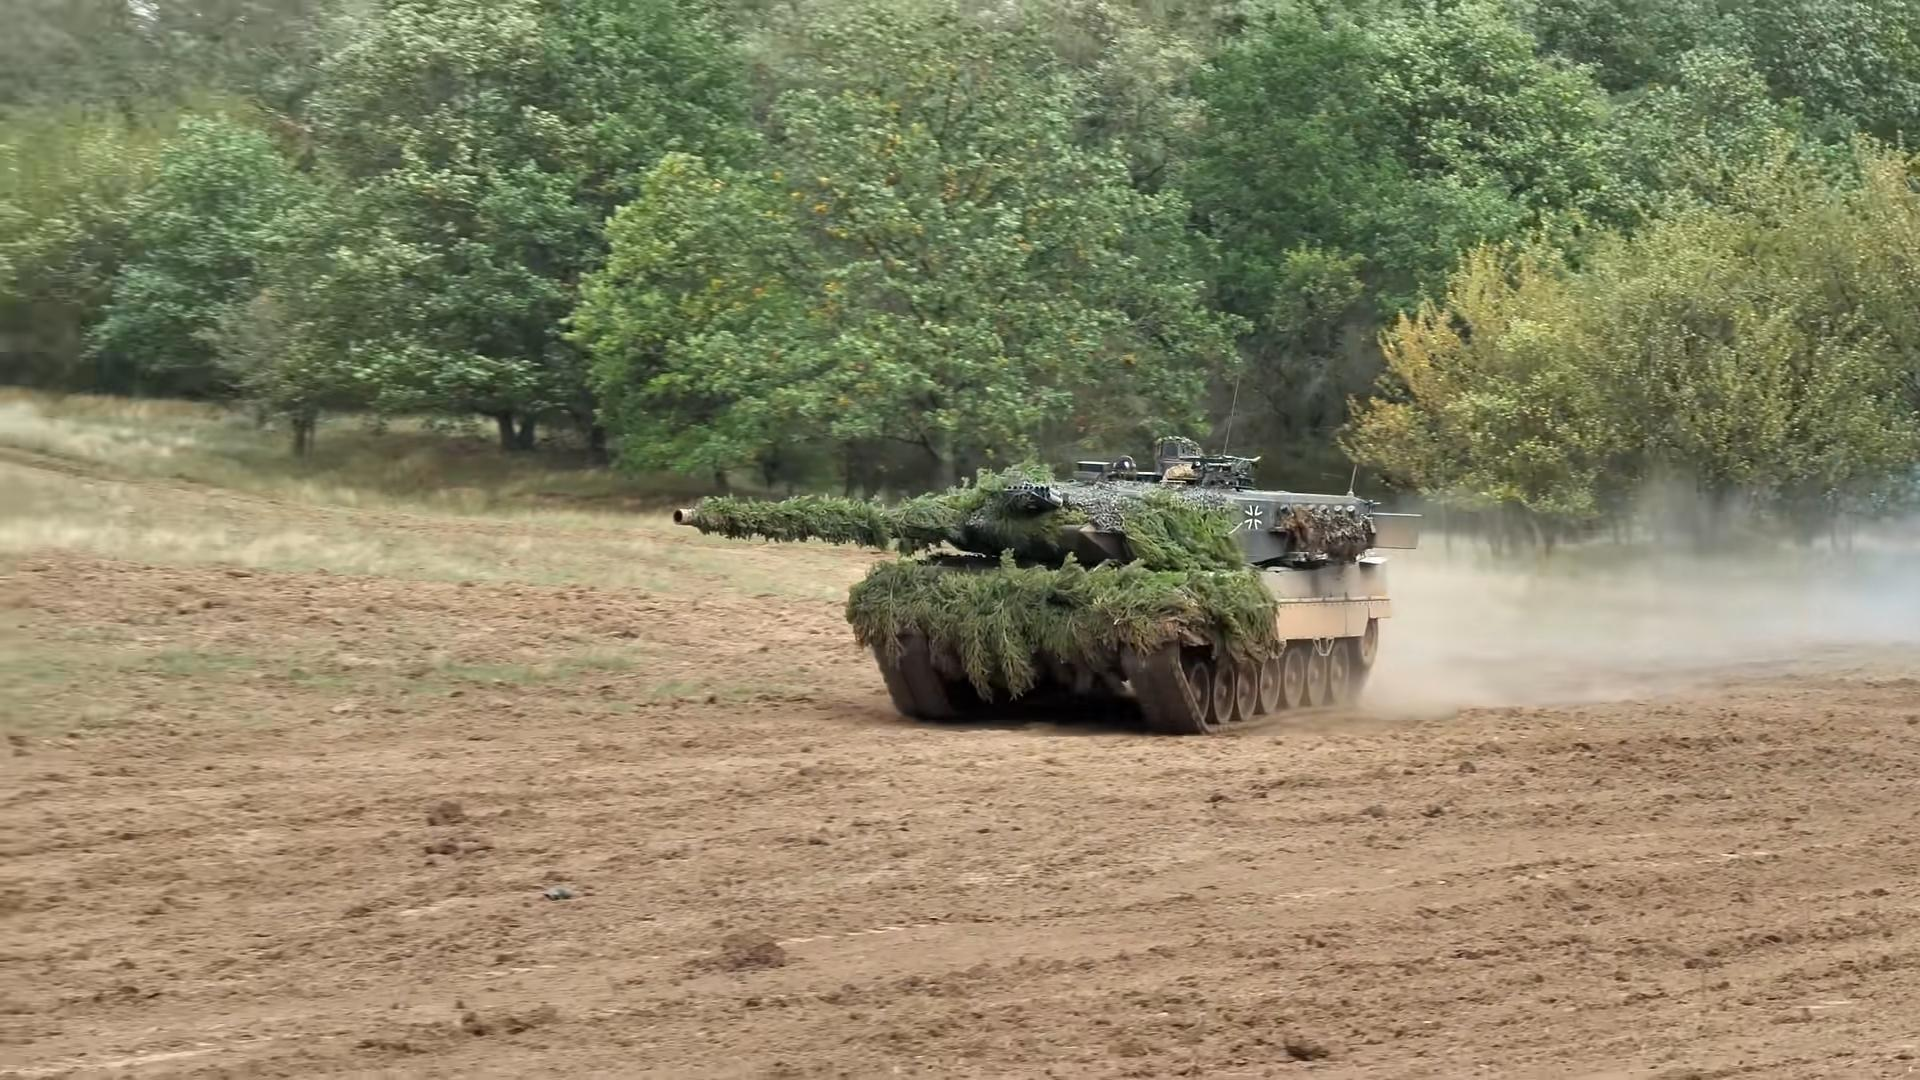tank: (670, 432, 1423, 734)
